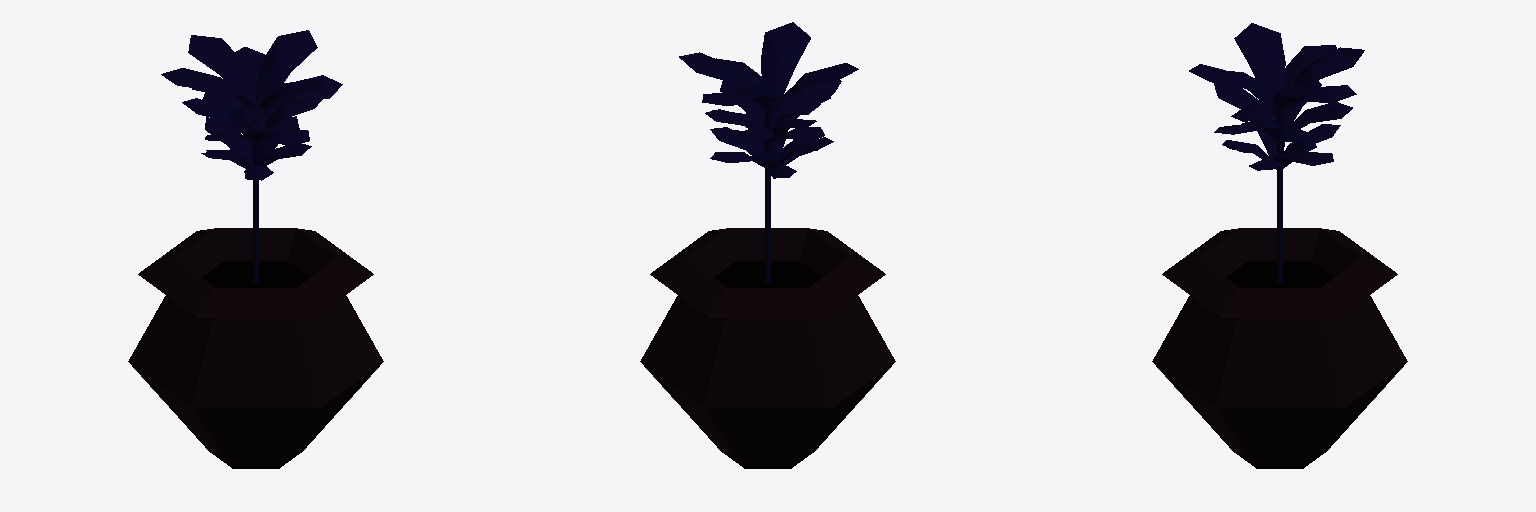
File: FlowerPot1.obj
3 views of the same model, side by side, from view 1: azimuth 30°, elevation 25°; view 2: azimuth 150°, elevation 25°; view 3: azimuth 270°, elevation 25° (orthographic).
Parts seen in each view (by area): view 1: FlowerPot1_Cylinder.004; view 2: FlowerPot1_Cylinder.004; view 3: FlowerPot1_Cylinder.004.
Part boxes in pixels (x1,y1,x2,y2): FlowerPot1_Cylinder.004: (128, 30, 383, 468); FlowerPot1_Cylinder.004: (640, 22, 895, 468); FlowerPot1_Cylinder.004: (1152, 23, 1407, 468).
Bounding box in the file's own units: 0.5917 × 1.15 × 0.6832.